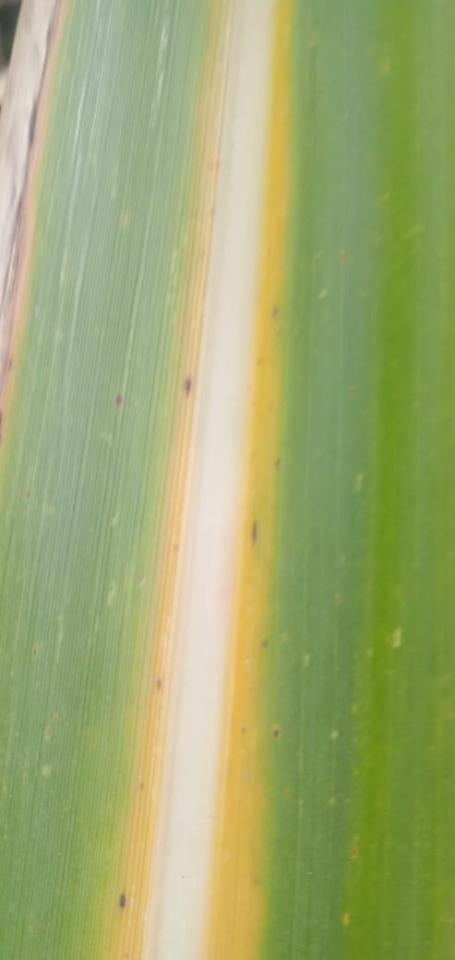Rust: (113, 385, 126, 411), (268, 301, 282, 322), (250, 518, 260, 547), (181, 377, 192, 402), (118, 887, 129, 909), (271, 451, 283, 471), (272, 724, 284, 743), (153, 673, 164, 693), (262, 632, 269, 649)
Yellow: (110, 0, 230, 959), (213, 0, 296, 959), (0, 0, 72, 455)
